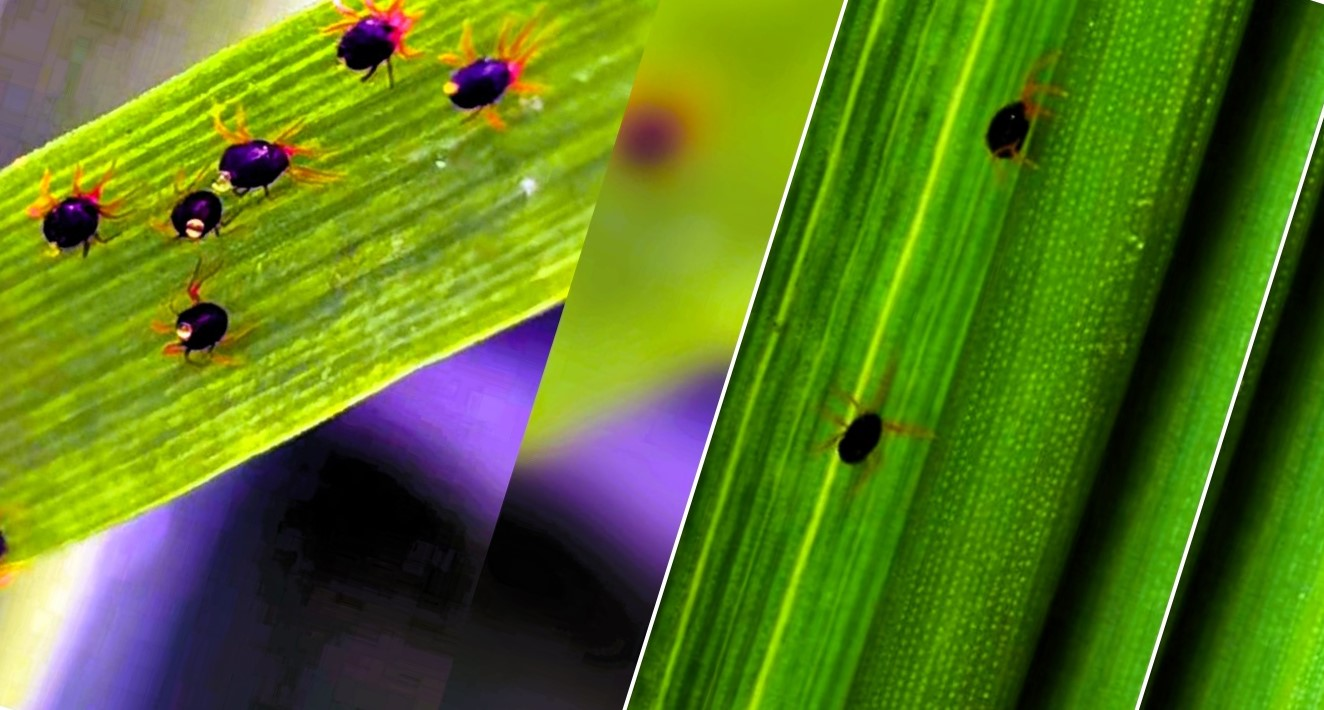Wheat Red Spider: (400, 12, 579, 138), (974, 27, 1082, 221), (18, 137, 142, 287)
